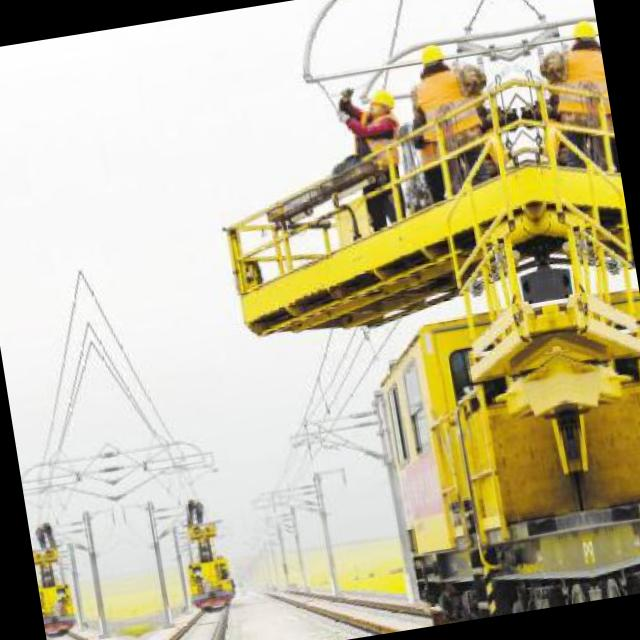helmet: (412, 40, 452, 84), (564, 16, 600, 61), (361, 84, 395, 124)
